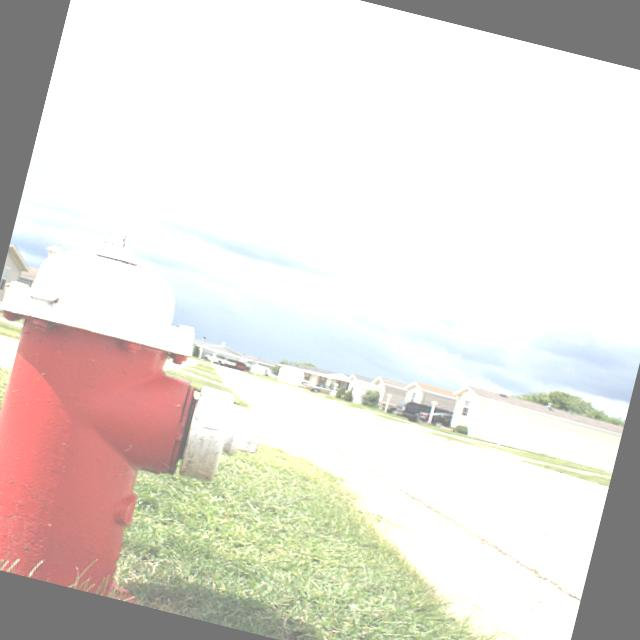Vehicle: (416, 406, 454, 429), (297, 377, 333, 397), (202, 351, 237, 369), (226, 357, 250, 372)
